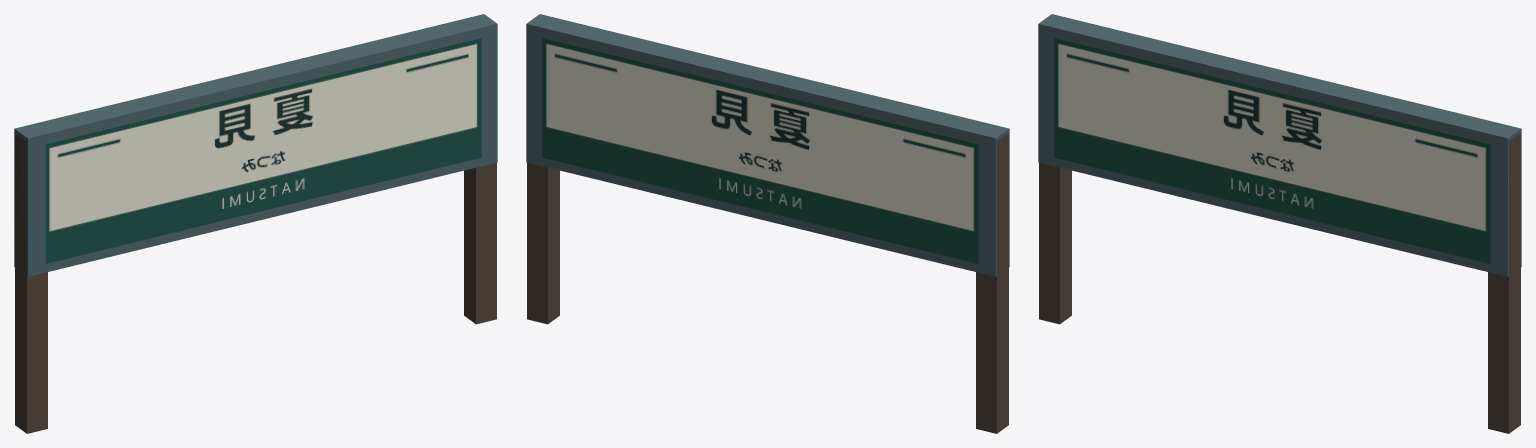
The model's file is station-sign.obj.
3 renders of one model, left to right at view 1: azimuth 30°, elevation 25°; view 2: azimuth 150°, elevation 25°; view 3: azimuth 330°, elevation 25°, orthographic.
Bounding box in the file's own units: 3.62 × 2.18 × 0.202.
3 materials, 1 textured.
